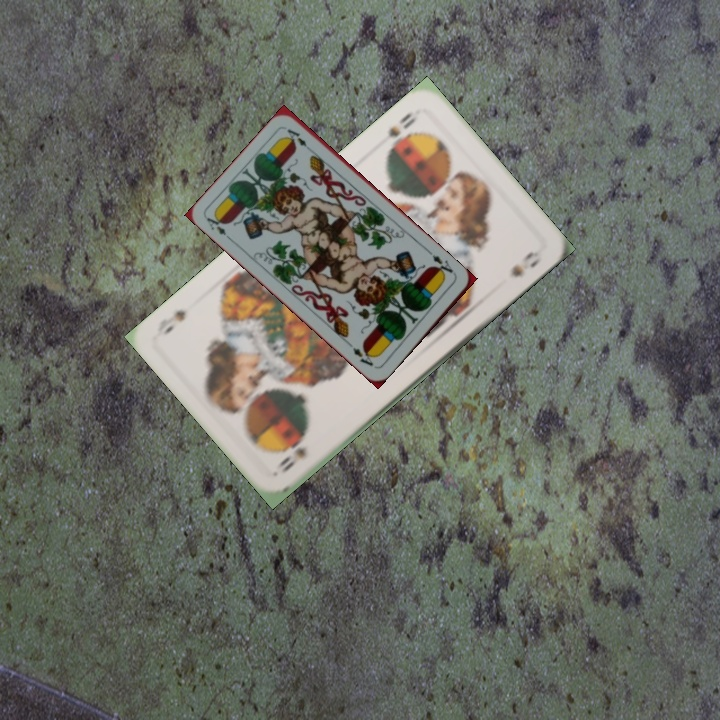EA: (425, 247, 459, 280), (203, 210, 236, 244)
SO: (382, 108, 419, 155), (273, 442, 310, 476)
